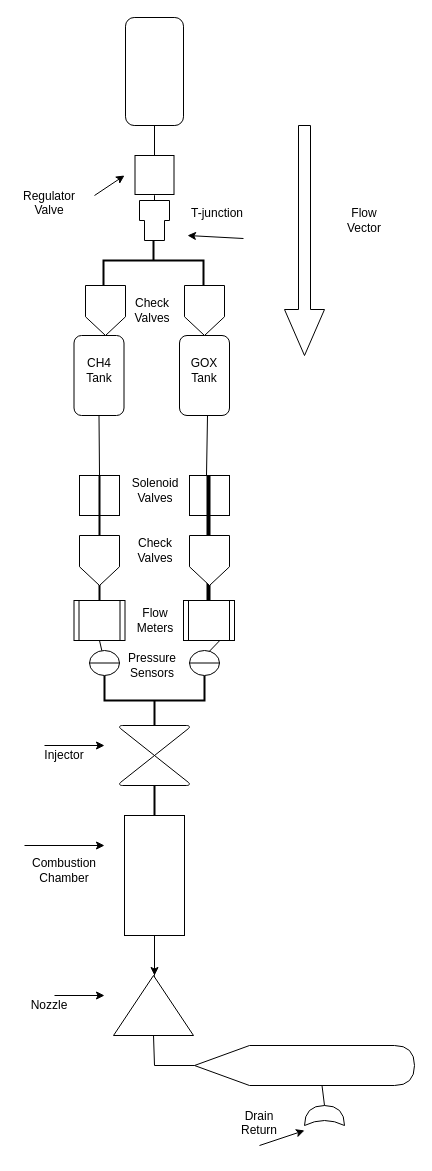
Image size: 432x1171. Some labels were removed from this diagram. Here are the shapes that lost their labels. From the top down, the centre of each, then its label:
(x=154, y=71): He Bottle
(x=304, y=1065): [Cooling Jacket] ← Water Pump ← Water Tank
